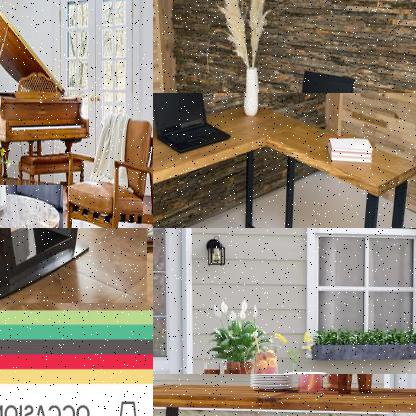table: (153, 93, 415, 227), (0, 228, 148, 305), (153, 374, 415, 415)
